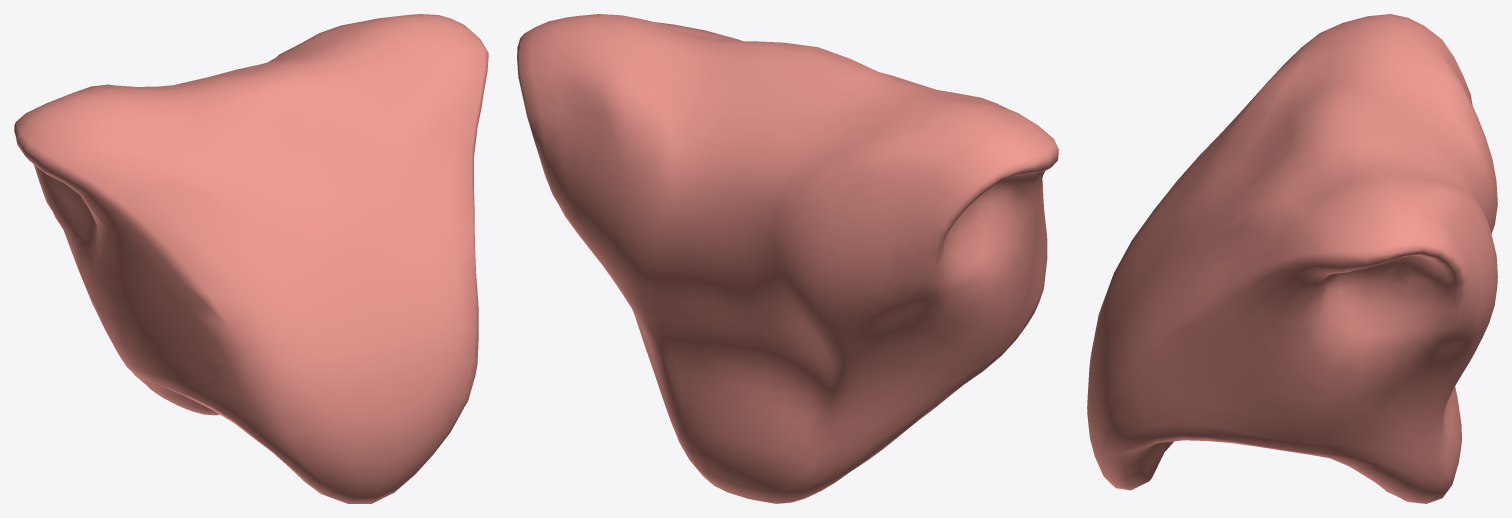
File: x_bot_v2 1.fbx
3 views of the same model, side by side, from view 1: azimuth 30°, elevation 25°; view 2: azimuth 150°, elevation 25°; view 3: azimuth 270°, elevation 25° (orthographic). The views are drawn at different scales.
Visible parts, largest first — view 1: Buste; view 2: Buste; view 3: Buste.
Part boxes in pixels (x1=…): Buste: x1=14, y1=14, x2=488, y2=503; Buste: x1=517, y1=14, x2=1058, y2=503; Buste: x1=1087, y1=14, x2=1497, y2=503.
Size of the model in its own units: 3857 by 2924 by 2837.
